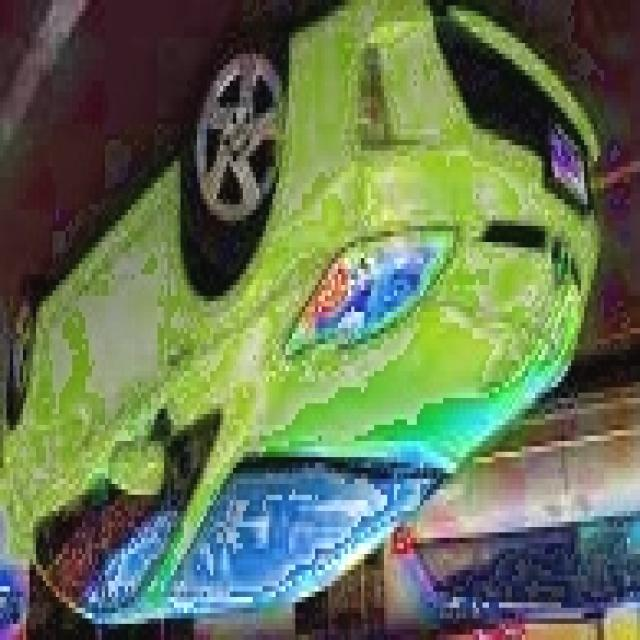green: (10, 0, 640, 635)
